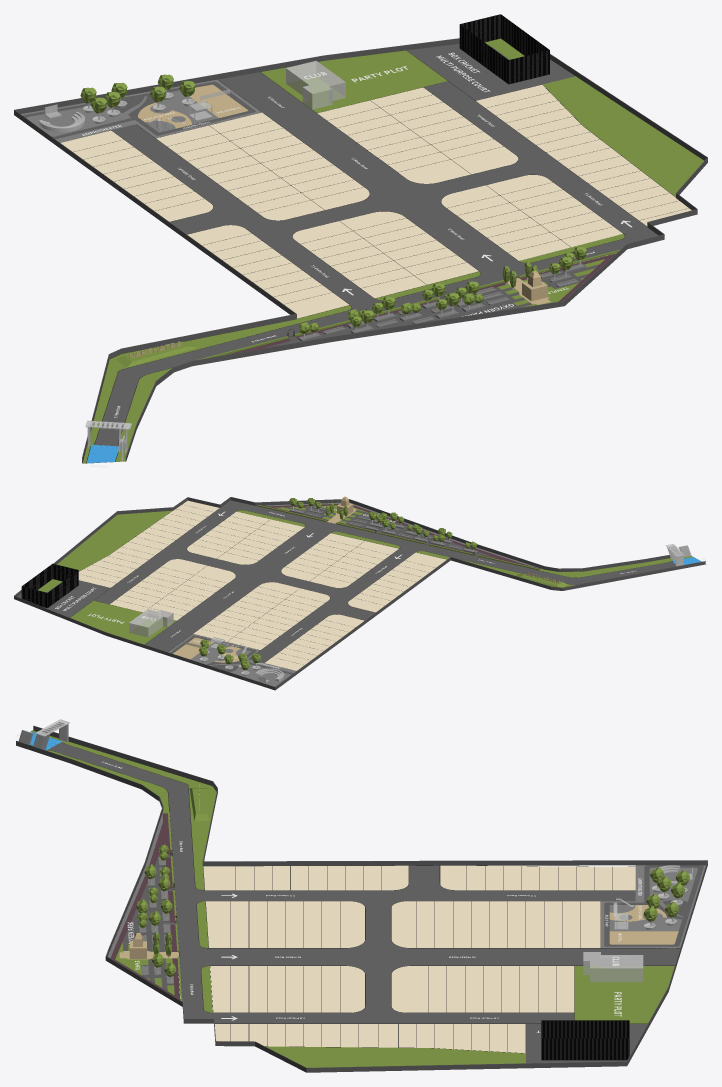
The model's file is Projects_IoKlH_model.glb.
3 views of the same model, one above another, from view 1: azimuth 30°, elevation 25°; view 2: azimuth 150°, elevation 25°; view 3: azimuth 270°, elevation 25° (orthographic). The views are drawn at different scales.
Visible parts, largest first — view 1: _Static, _Plots, Mesh_114.003, Mesh_127.003, Mesh_115.003; view 2: _Static, _Plots, Mesh_114.003, Mesh_115.003, Mesh_127.003; view 3: _Static, _Plots, Mesh_114.003, Mesh_127.003.
Part boxes in pixels (bbox=[...]): _Static: bbox=[14, 14, 707, 463]; _Plots: bbox=[61, 84, 691, 318]; Mesh_114.003: bbox=[226, 253, 615, 354]; Mesh_127.003: bbox=[298, 263, 586, 341]; Mesh_115.003: bbox=[197, 249, 620, 359]; _Static: bbox=[14, 496, 706, 690]; _Plots: bbox=[78, 500, 446, 670]; Mesh_114.003: bbox=[263, 502, 540, 569]; Mesh_115.003: bbox=[257, 505, 539, 570]; Mesh_127.003: bbox=[289, 508, 478, 553]; _Static: bbox=[16, 719, 707, 1072]; _Plots: bbox=[203, 865, 635, 1053]; Mesh_114.003: bbox=[108, 813, 180, 999]; Mesh_127.003: bbox=[138, 856, 173, 985].
Size of the model in its own units: 233 by 7.08 by 200.
Materials: 12 (2 with a texture image).
